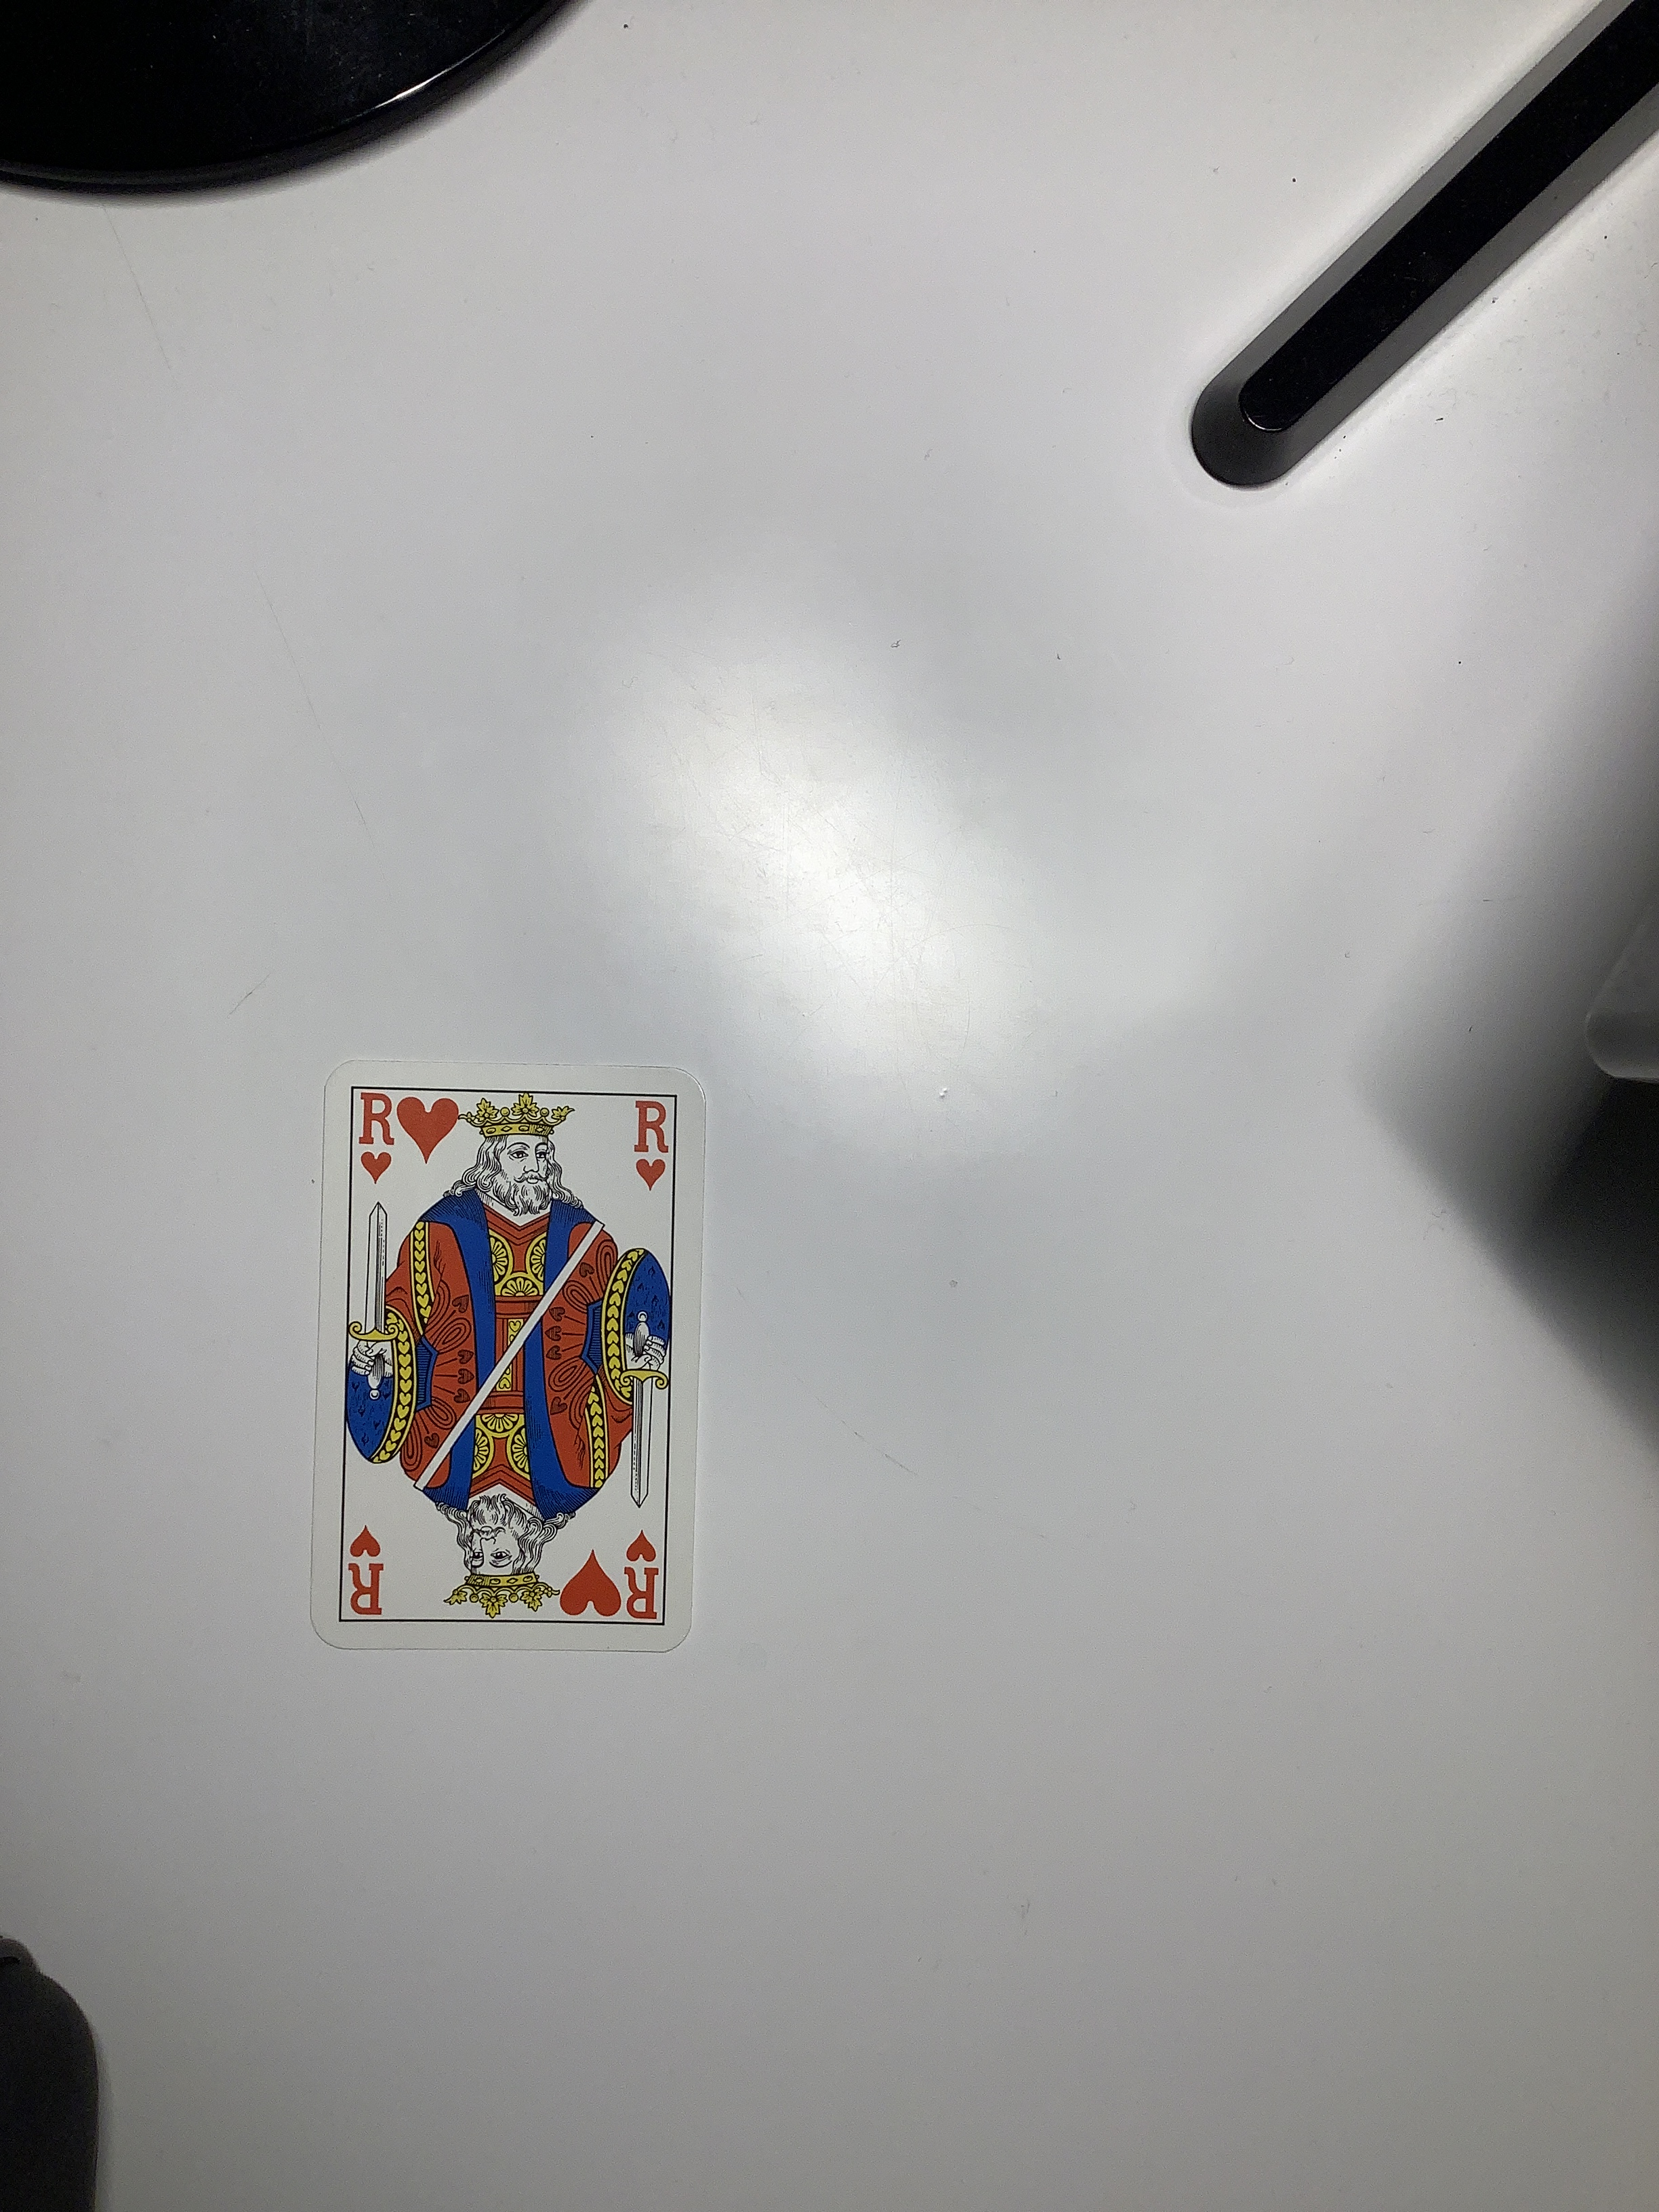♥ K: (307, 1038, 723, 1670)
